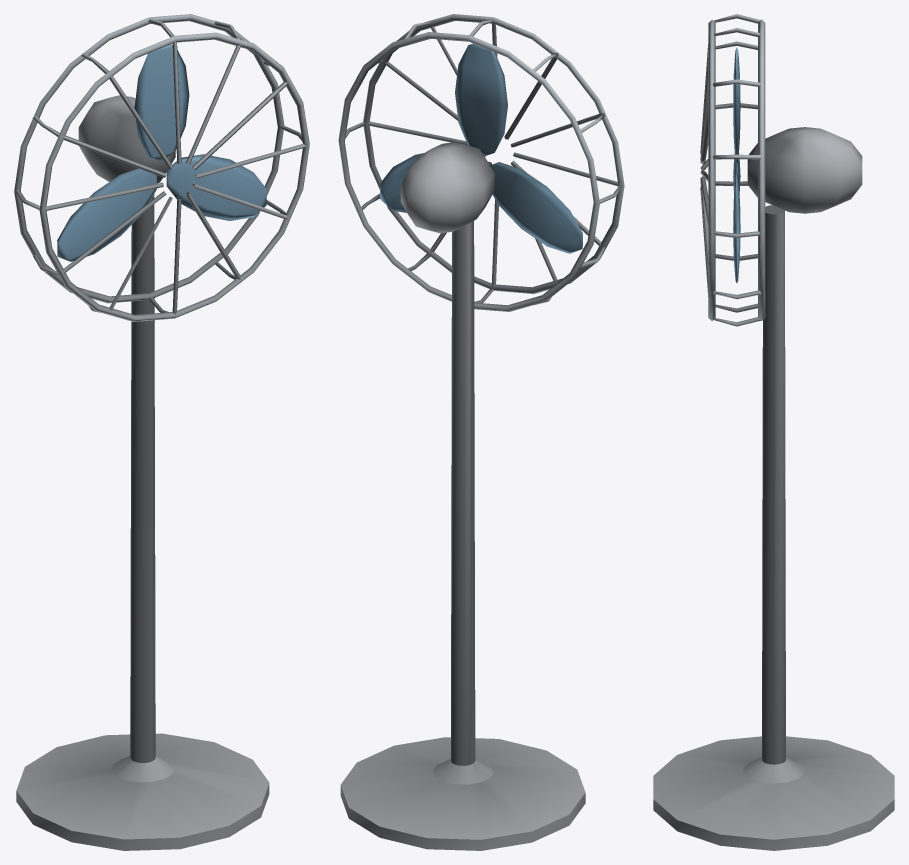
The model's file is quat-dung.glb.
3 views of the same model, side by side, from view 1: azimuth 30°, elevation 25°; view 2: azimuth 150°, elevation 25°; view 3: azimuth 270°, elevation 25° (orthographic). The views are drawn at different scales.
Visible parts, largest first — view 1: quat-dung; view 2: quat-dung; view 3: quat-dung.
Boxes of the visible parts, x1,y1,x2,y2 form: quat-dung: (14, 14, 309, 850); quat-dung: (338, 14, 624, 850); quat-dung: (653, 14, 894, 850).
Size of the model in its own units: 0.508 by 1.37 by 0.39.
